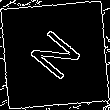N_SE: (23, 23, 87, 87)
